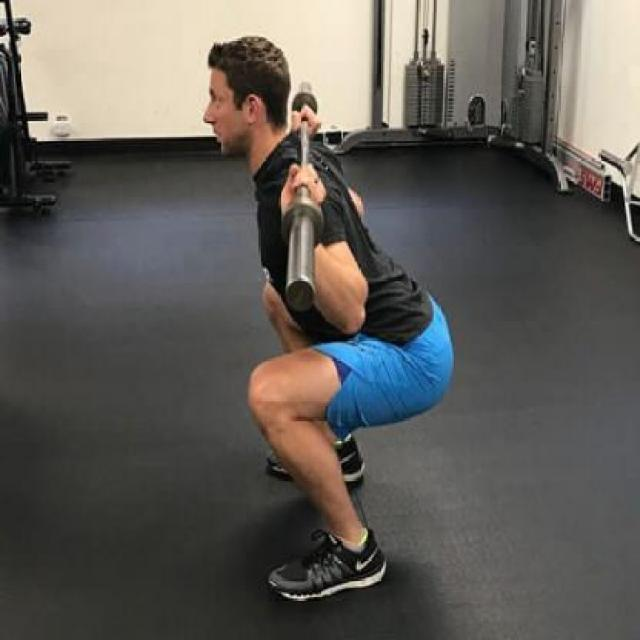Barbell: (282, 274, 320, 316)
